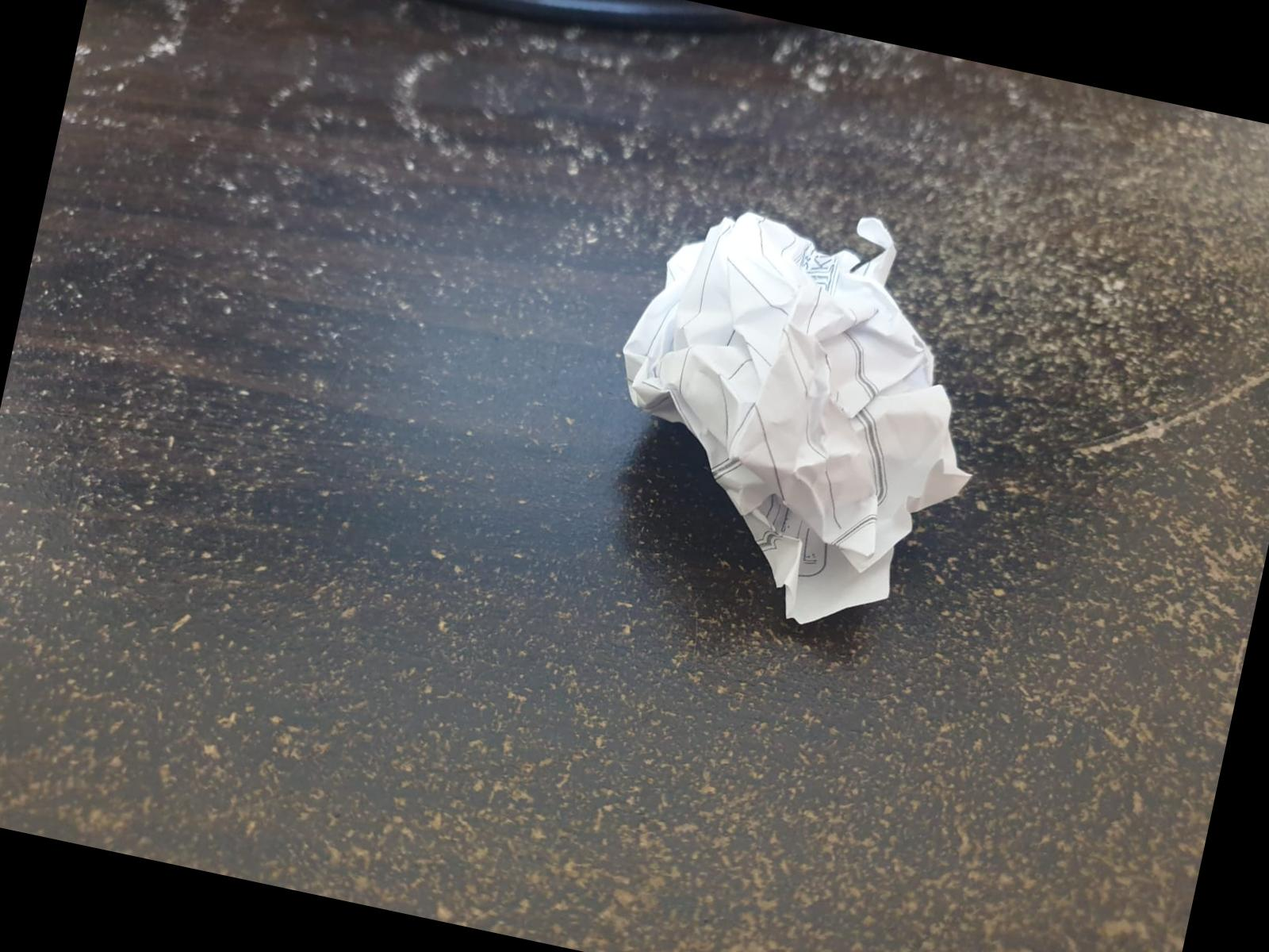Kertas: (600, 224, 972, 632)
